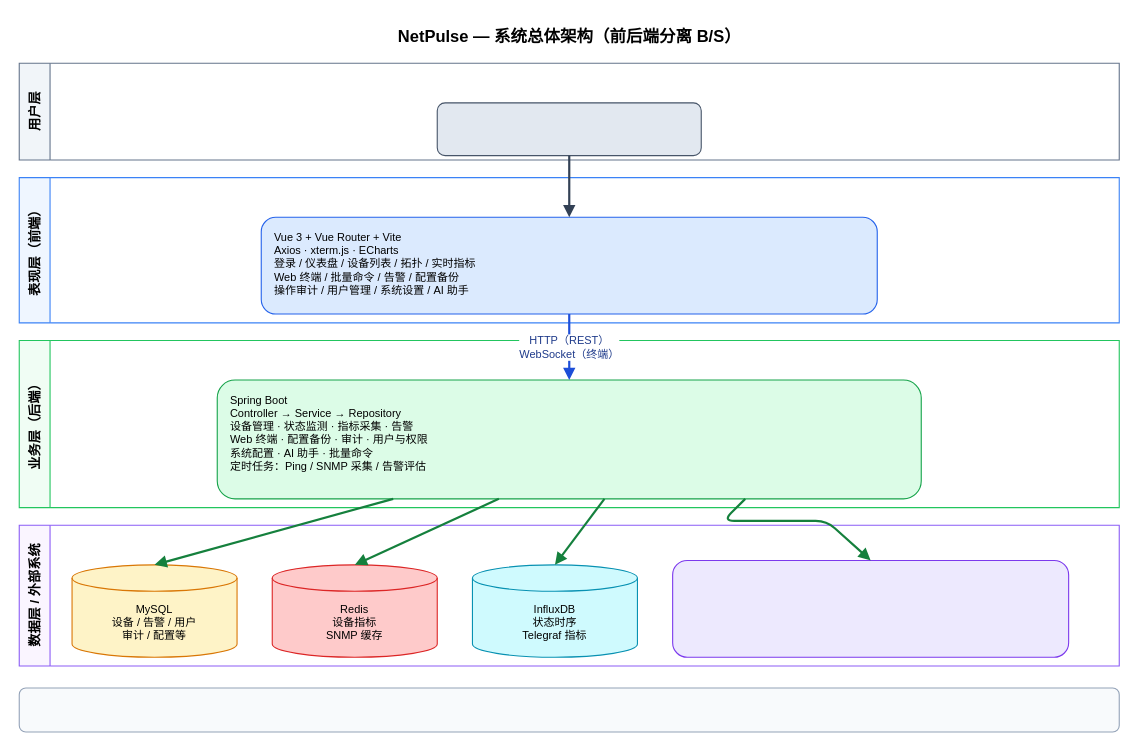
Image size: 1139x751. Some labels were removed from this diagram. Here are the shapes that lost their labels. From the top down, the centre of each, then its label:
point 568,129: 浏览器 管理员 / 运维人员 / 只读用户
point 870,608: 外部系统 网络设备 SNMP / SSH / Telnet 邮件服务器 · 大模型 API · Telegraf
point 568,709: 说明：表现层与业务层通过 REST API 与 WebSocket 交互；业务层访问关系型/缓存/时序库，并对接被管设备与第三方服务。
